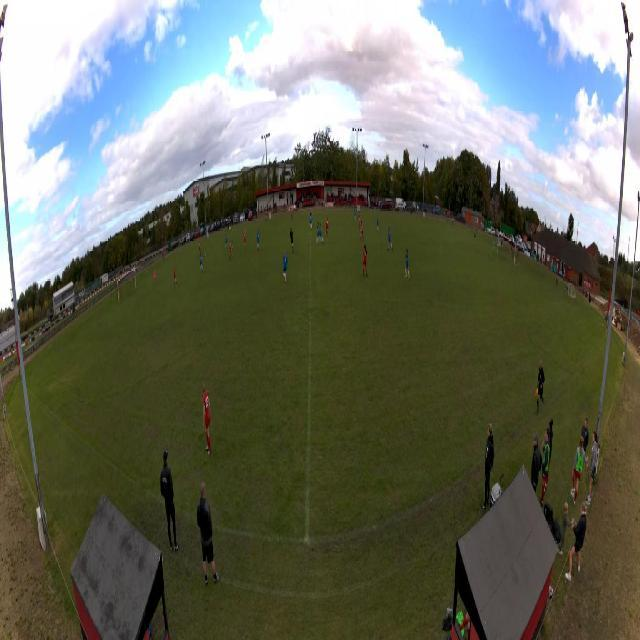ball: (205, 253, 206, 258)
player: (202, 385, 212, 457), (362, 244, 368, 278), (289, 227, 295, 255), (405, 249, 410, 279), (387, 226, 393, 251), (283, 248, 287, 284), (319, 220, 324, 246), (316, 221, 320, 246), (243, 227, 247, 251), (173, 264, 177, 288), (325, 218, 329, 239), (256, 230, 260, 251), (229, 240, 233, 261), (199, 251, 203, 272), (360, 221, 364, 242), (309, 212, 313, 231), (225, 232, 229, 249), (358, 211, 362, 228), (376, 214, 379, 233), (493, 239, 496, 257), (199, 240, 202, 257), (154, 268, 157, 285), (354, 206, 357, 222), (290, 207, 293, 219)
